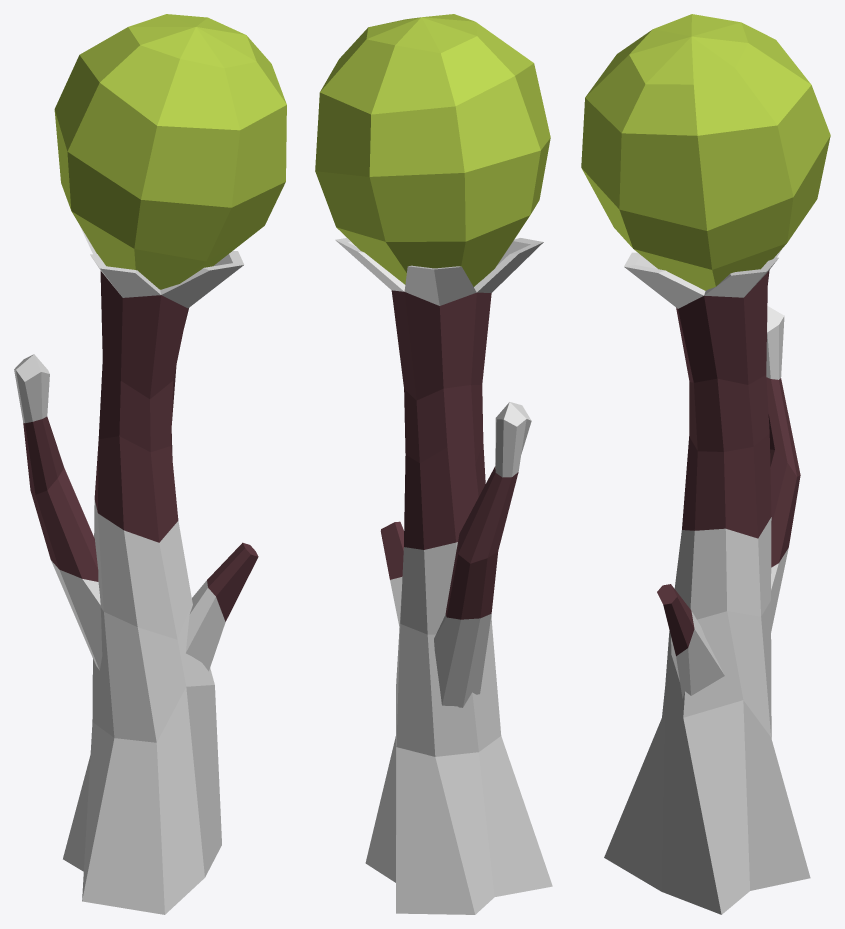
Rendered from scifi-tree-orb-big.fbx.
The picture shows the model from 3 angles, left to right: view 1: azimuth 30°, elevation 25°; view 2: azimuth 150°, elevation 25°; view 3: azimuth 270°, elevation 25°; orthographic projection. The views are drawn at different scales.
Parts seen in each view (by area): view 1: scifi-tree-orb-big; view 2: scifi-tree-orb-big; view 3: scifi-tree-orb-big.
Boxes of the visible parts, box(x1,y1,x2,y2) form: scifi-tree-orb-big: box(14, 14, 286, 914); scifi-tree-orb-big: box(315, 14, 552, 914); scifi-tree-orb-big: box(581, 14, 830, 914).
Size of the model in its own units: 1.57 by 5.59 by 1.47.
